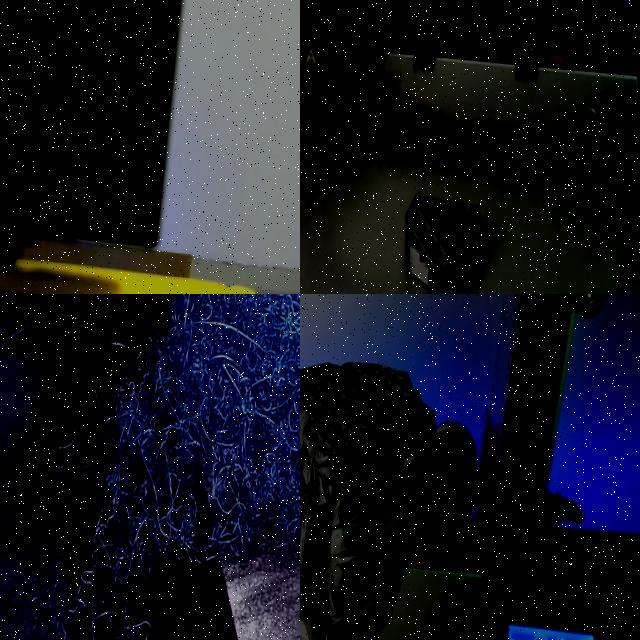spaghetti: (93, 294, 300, 584), (0, 567, 90, 640)
